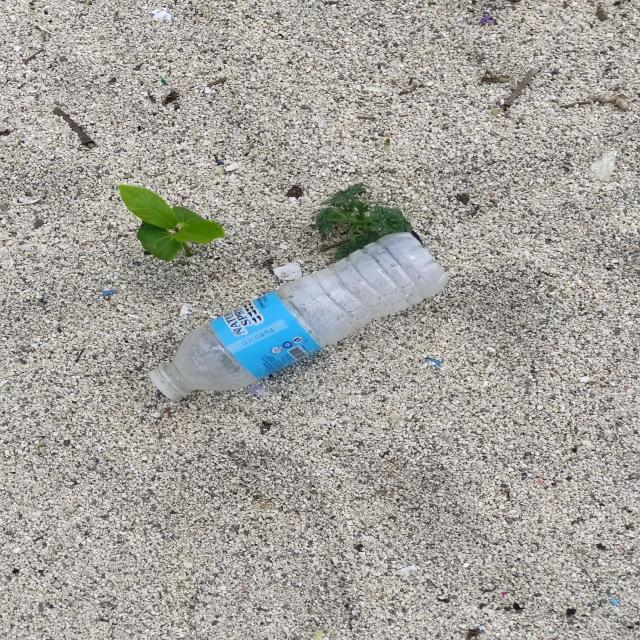plastic_waste: (150, 233, 450, 403)
